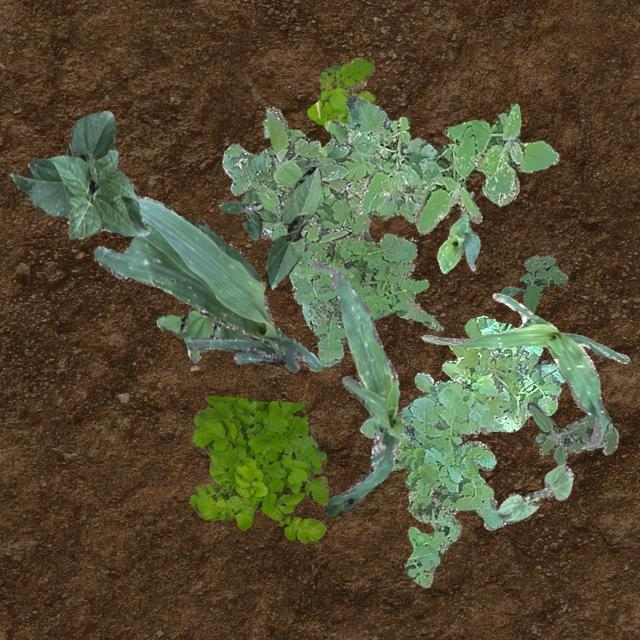crop: (92, 196, 320, 372), (422, 292, 628, 450), (310, 260, 402, 516), (9, 110, 150, 238), (264, 165, 320, 288), (496, 462, 574, 522), (436, 190, 478, 272)
weed: (358, 314, 564, 586), (220, 117, 442, 366), (346, 102, 558, 234), (188, 394, 328, 544), (273, 94, 437, 222), (264, 105, 362, 244), (526, 400, 618, 464), (156, 309, 247, 362), (306, 56, 374, 125), (499, 254, 566, 312), (216, 186, 276, 238)
